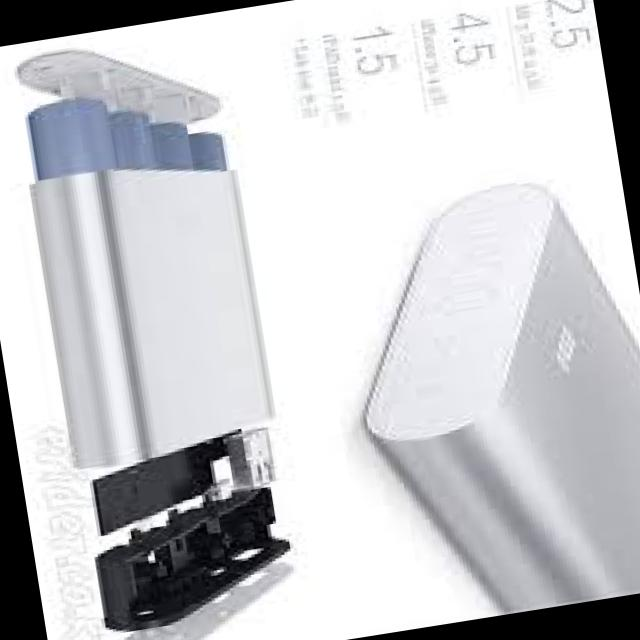portable-charger: (317, 161, 640, 633)
